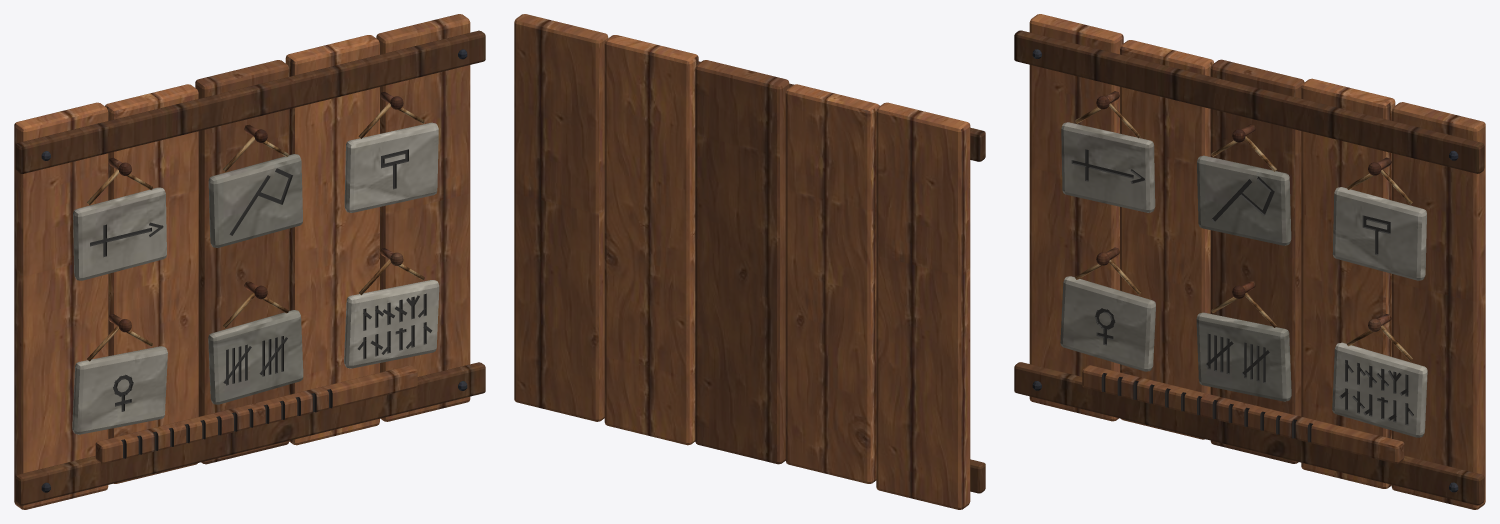
Rendered from ef_commission_board.glb.
The picture shows the model from 3 angles, left to right: view 1: azimuth 30°, elevation 25°; view 2: azimuth 150°, elevation 25°; view 3: azimuth 330°, elevation 25°; orthographic projection.
Visible parts, largest first — view 1: model; view 2: model; view 3: model.
Boxes of the visible parts, x1,y1,x2,y2 form: model: [14, 14, 485, 509]; model: [514, 14, 985, 509]; model: [1014, 14, 1485, 509].
Size of the model in its own units: 1.03 by 0.8154 by 0.105.
Materials: 13 (11 with a texture image).
